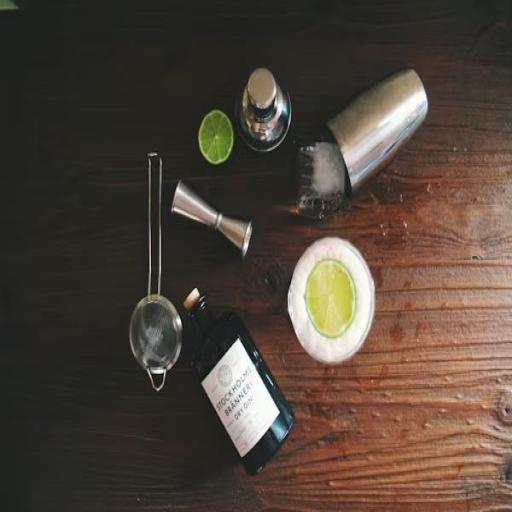bottle: (176, 280, 300, 478)
